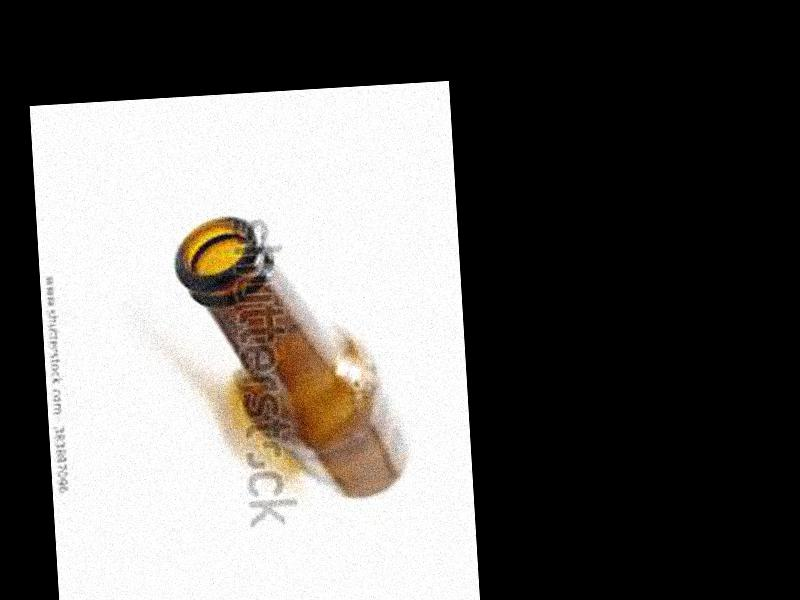Beer: (170, 206, 410, 509)
